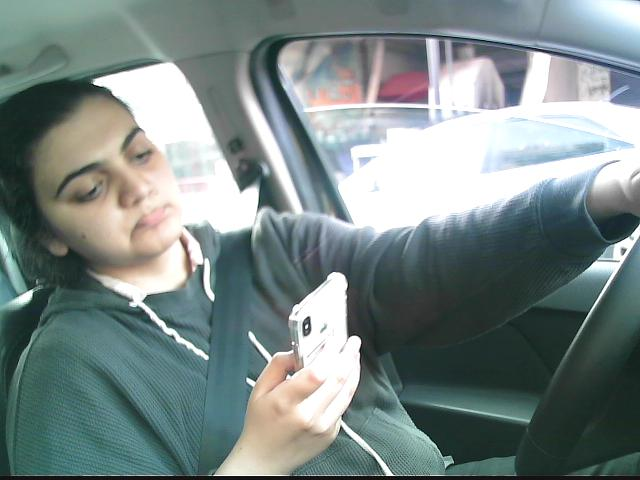PhoneUse: (285, 269, 360, 405)
